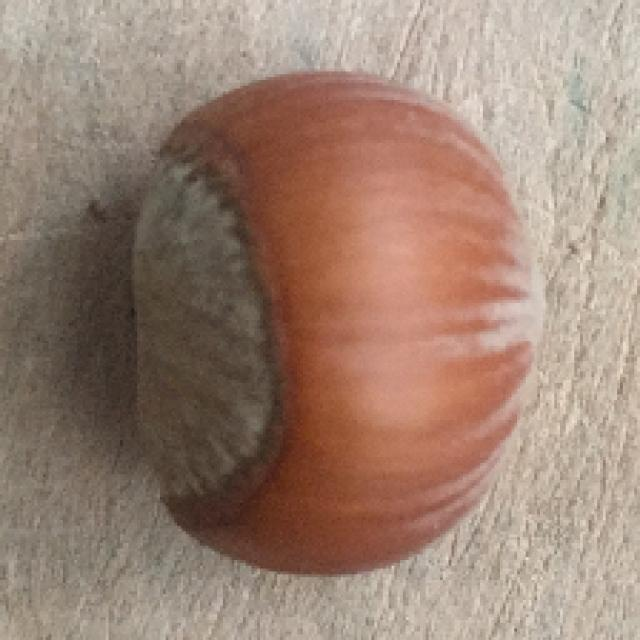qualityHazelnut: (130, 67, 550, 576)
